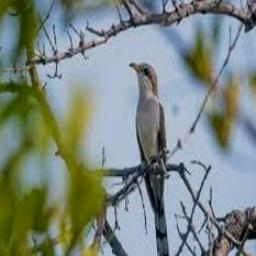Cuckoo: (129, 61, 169, 256)
